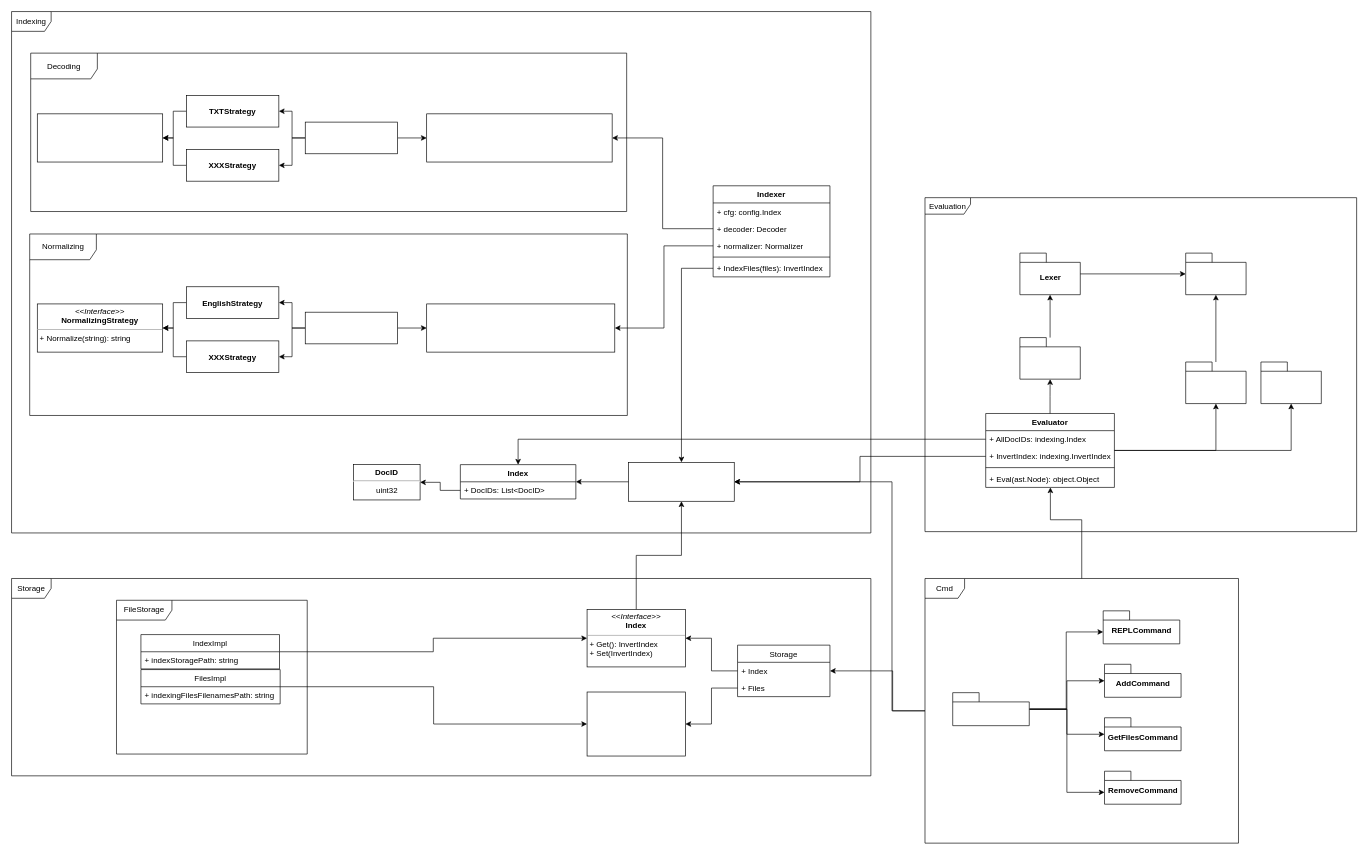
Image size: 1368x855. Some labels were removed from this diagram. Here are the shapes that lost their labels. From the top down, the centre of each, then its label:
the point at 100,137: <<Interface>> DecodingStrategy + DecodeNext(): string
the point at 351,137: DecoderImpl
the point at 519,137: <<Interface>> Decoder + GetDecoder(file: *os.File): DecodingStrategy
the point at 1215,273: Token
the point at 351,328: NormalizerImpl
the point at 520,327: <<Interface>> Normalizer + GetNormalizer(file: *os.File): NormalizingStrategy
the point at 1049,358: Parser
the point at 1215,382: AST
the point at 1290,382: Object
the point at 681,481: InvertIndex map[stirng]*Index
the point at 635,723: <<Interface>> Files + Get(): string[] + Put(string) + Delete(string)
the point at 990,709: RootCommand
